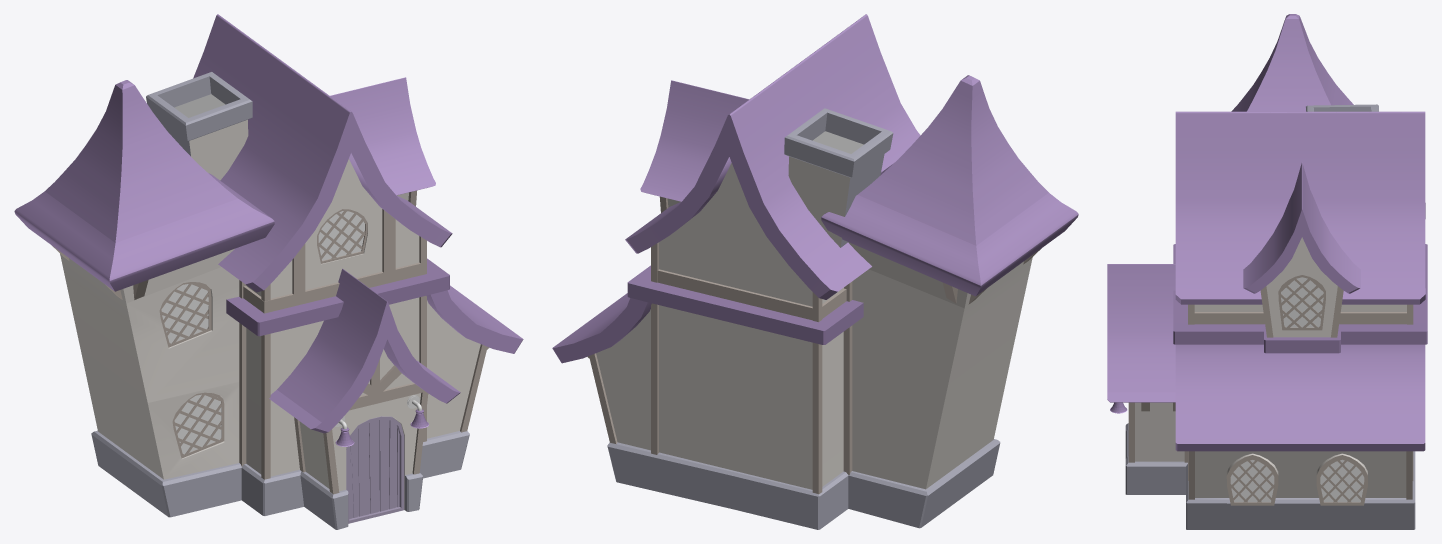
The model's file is House 2.fbx.
3 renders of one model, left to right at view 1: azimuth 30°, elevation 25°; view 2: azimuth 150°, elevation 25°; view 3: azimuth 270°, elevation 25°, orthographic. The views are drawn at different scales.
Parts seen in each view (by area): view 1: Cathy_House; view 2: Cathy_House; view 3: Cathy_House.
Part boxes in pixels (box(x1,y1,x2,y2)): Cathy_House: box(14, 14, 523, 529); Cathy_House: box(552, 14, 1078, 529); Cathy_House: box(1107, 14, 1427, 529).
Size of the model in its own units: 1439 by 1433 by 1074.
